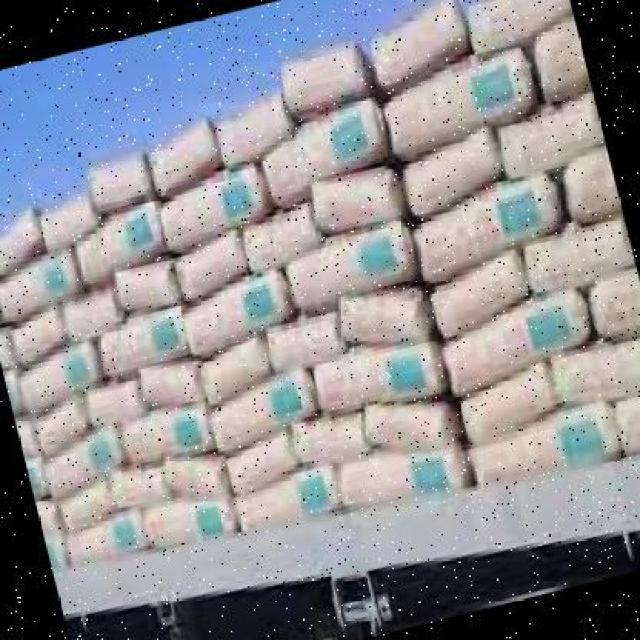gunny_bag: (409, 167, 563, 292), (441, 289, 596, 400), (384, 48, 533, 156), (260, 99, 384, 205), (468, 400, 628, 478), (284, 221, 418, 306), (494, 82, 605, 180), (154, 152, 265, 247), (183, 265, 296, 357), (312, 338, 452, 412), (398, 127, 503, 219), (366, 0, 469, 91), (208, 365, 317, 450), (333, 443, 473, 508), (452, 360, 562, 442), (92, 298, 194, 381), (426, 255, 532, 333), (73, 202, 163, 287), (0, 243, 84, 332), (279, 44, 376, 121), (235, 464, 342, 530), (331, 287, 439, 351), (551, 335, 640, 409), (312, 161, 406, 231), (171, 224, 248, 309), (206, 89, 296, 161), (241, 193, 319, 275), (134, 487, 238, 548), (17, 340, 102, 413), (359, 395, 463, 450), (43, 434, 127, 502), (120, 406, 217, 462), (202, 335, 274, 408), (225, 428, 304, 494), (62, 509, 151, 567), (556, 143, 622, 219), (27, 386, 92, 461), (107, 256, 184, 319), (91, 145, 153, 218), (152, 122, 214, 192), (86, 370, 152, 435), (6, 306, 72, 369), (60, 285, 127, 347), (267, 312, 342, 367), (37, 187, 95, 256), (52, 477, 121, 530), (296, 408, 366, 460), (142, 353, 204, 410), (160, 449, 230, 498), (0, 207, 46, 276), (109, 462, 168, 511), (612, 391, 640, 454), (27, 463, 55, 504), (15, 416, 43, 454), (0, 324, 20, 372), (36, 500, 64, 533)
